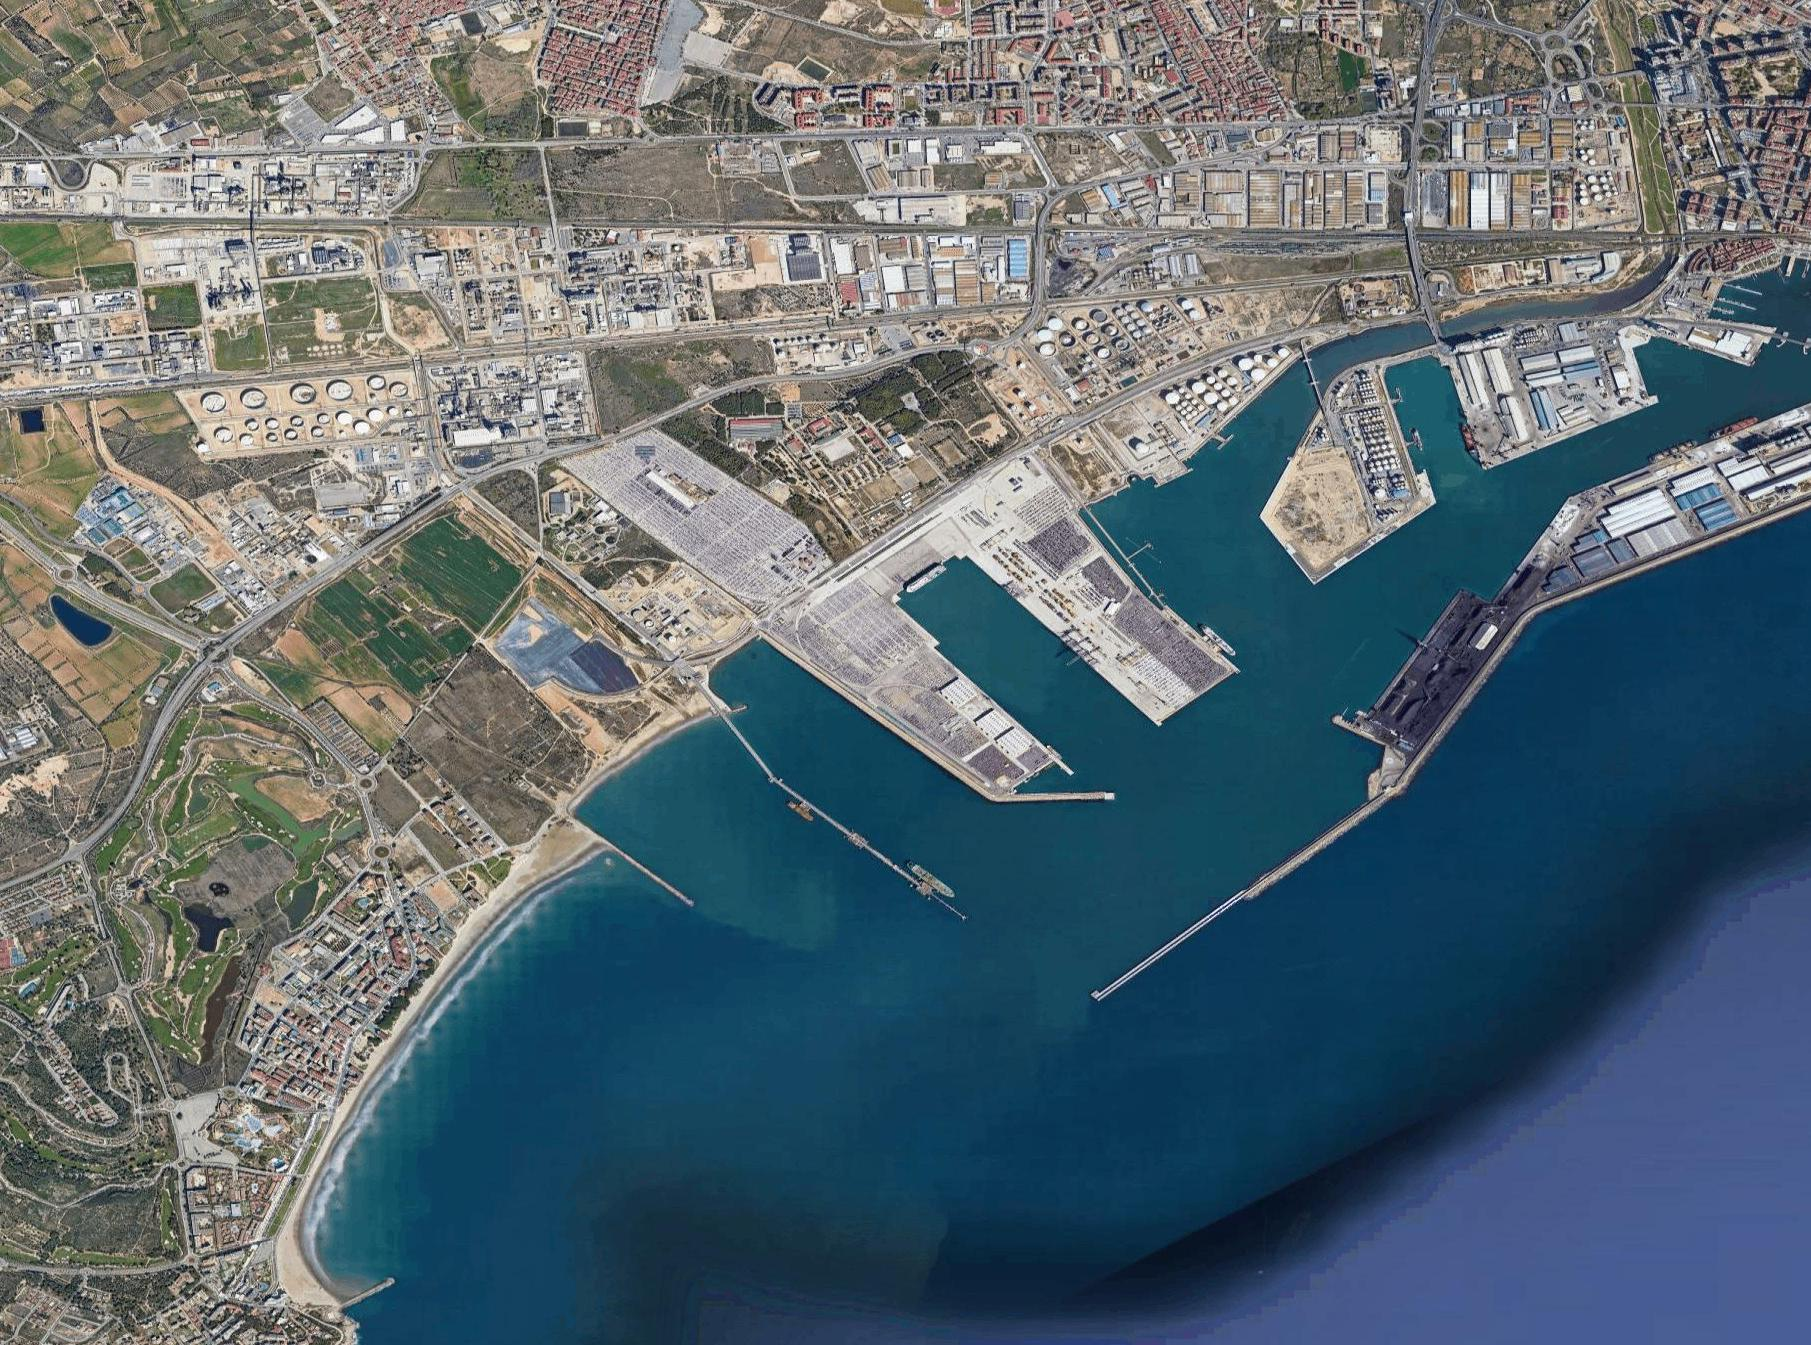harbor: (761, 274, 1811, 1048)
industrial: (1165, 127, 1399, 227), (1420, 110, 1574, 235), (785, 230, 1021, 307)
motorway: (1, 503, 186, 634), (240, 510, 403, 634), (127, 619, 246, 771), (1, 771, 143, 893), (396, 446, 555, 528), (551, 415, 658, 465), (661, 374, 766, 421), (761, 360, 884, 387), (889, 340, 983, 367)
